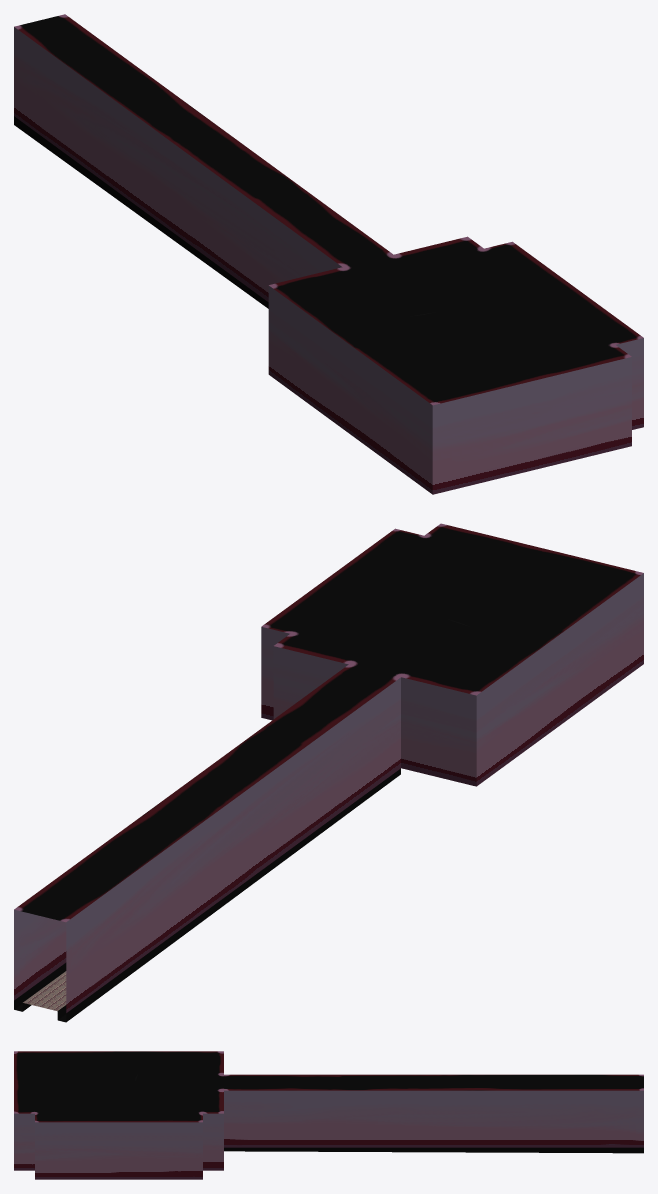
The model's file is madoRoom.gltf.
The picture shows the model from 3 angles, top to bottom: view 1: azimuth 30°, elevation 25°; view 2: azimuth 150°, elevation 25°; view 3: azimuth 270°, elevation 25°; orthographic projection. The views are drawn at different scales.
Visible parts, largest first — view 1: Room; view 2: Room; view 3: Room.
Boxes of the visible parts, bbox=[...] form: Room: bbox=[14, 14, 643, 494]; Room: bbox=[14, 523, 643, 1022]; Room: bbox=[14, 1051, 643, 1179].
Bounding box in the file's own units: 8 × 3.3 × 30.
2 materials, 2 textured.
